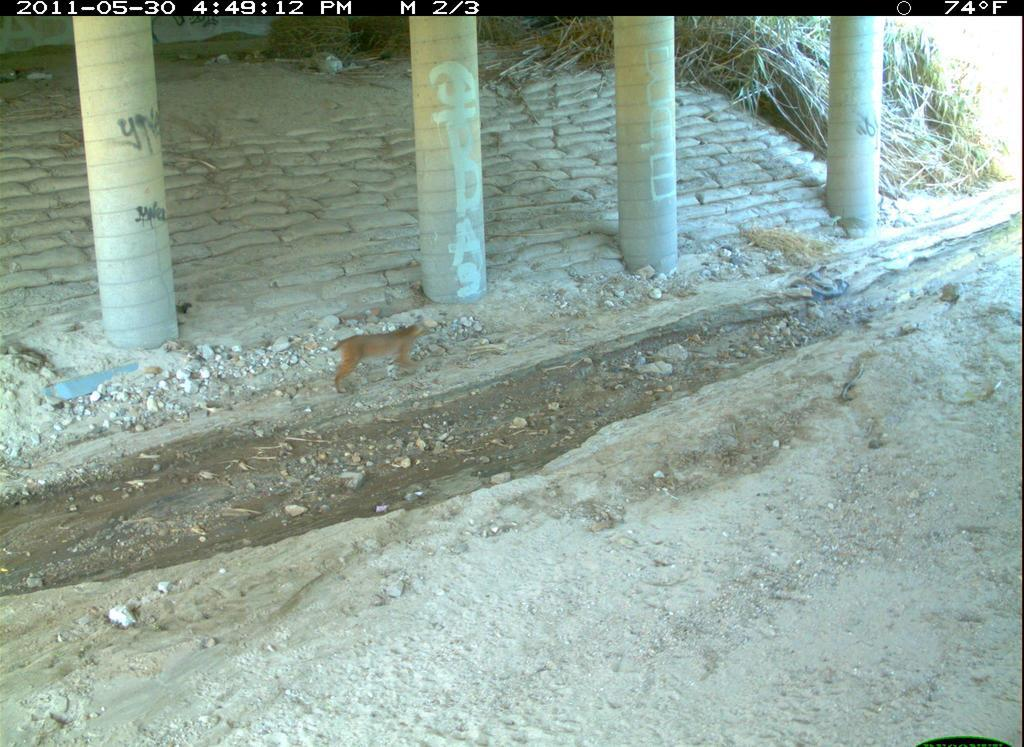bobcat: (644, 626, 877, 747)
